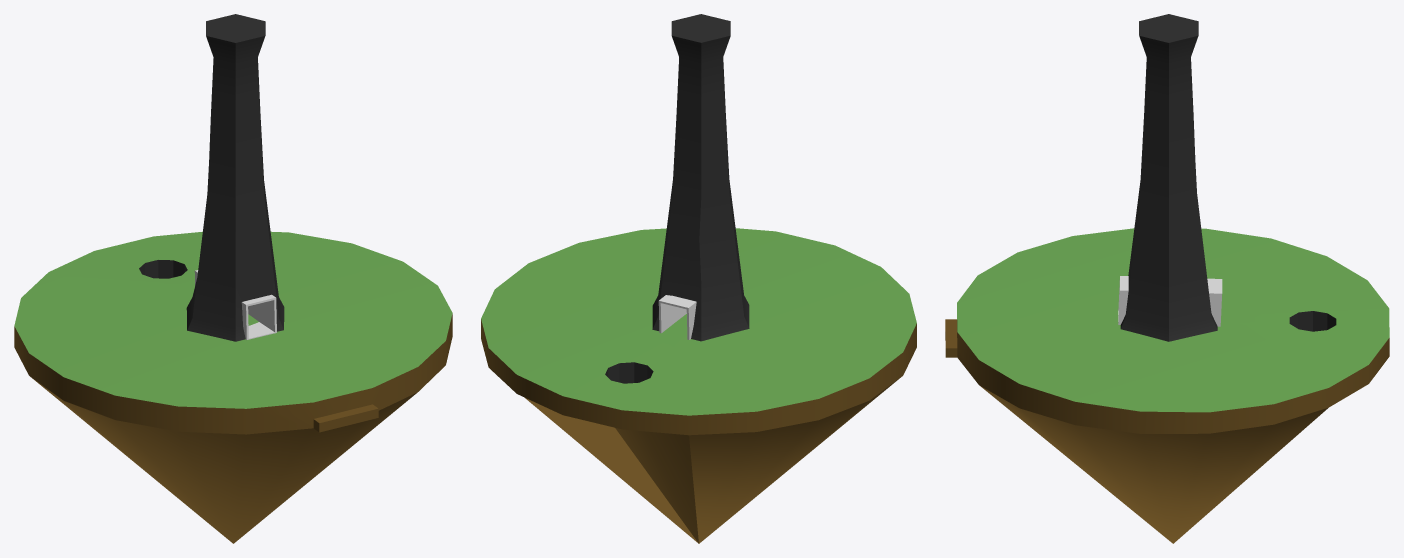
File: md_golfcourse.fbx
3 views of the same model, side by side, from view 1: azimuth 30°, elevation 25°; view 2: azimuth 150°, elevation 25°; view 3: azimuth 270°, elevation 25° (orthographic).
Parts seen in each view (by area): view 1: pCylinder47, pCylinder9; view 2: pCylinder47, pCylinder9; view 3: pCylinder47, pCylinder9.
Part boxes in pixels (x1=…): pCylinder47: x1=14, y1=231, x2=452, y2=543; pCylinder9: x1=186, y1=14, x2=284, y2=341; pCylinder47: x1=481, y1=228, x2=916, y2=543; pCylinder9: x1=652, y1=14, x2=749, y2=341; pCylinder47: x1=945, y1=228, x2=1389, y2=543; pCylinder9: x1=1118, y1=14, x2=1222, y2=341.
Size of the model in its own units: 7.59 by 9.98 by 7.8.
